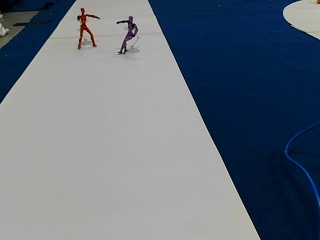pedestrian: (77, 7, 100, 49), (116, 15, 138, 53)
